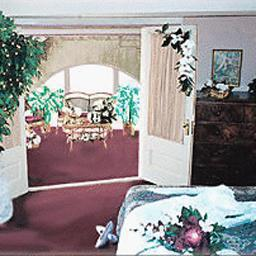Armario: (196, 99, 255, 185)
Cama: (116, 182, 254, 254)
Puerta: (141, 30, 191, 186)
